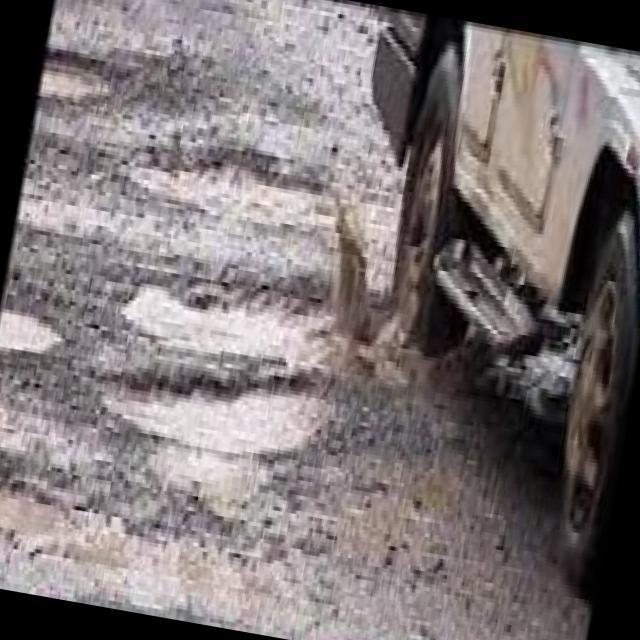Pothole: (81, 343, 366, 522), (106, 245, 360, 392), (0, 288, 74, 368)
